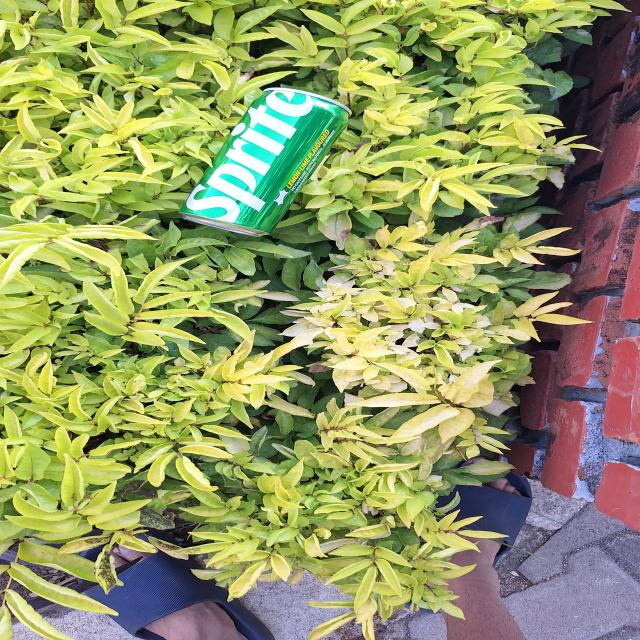Sprite: (181, 89, 344, 232)
